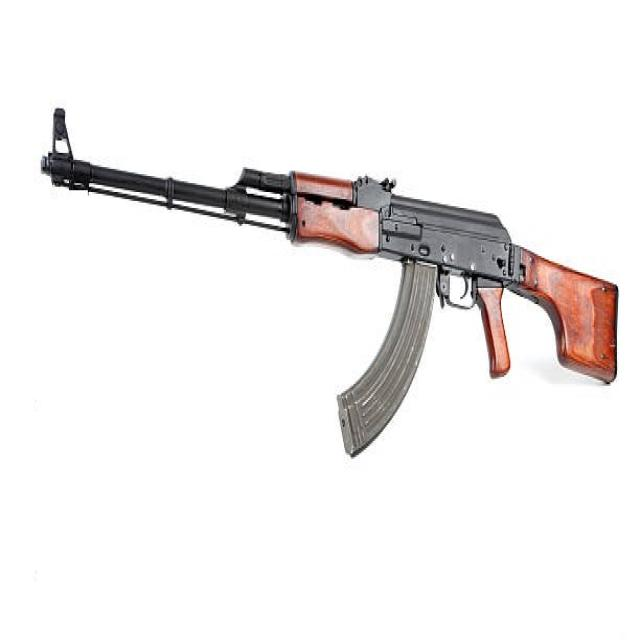rifle: (37, 95, 626, 478)
